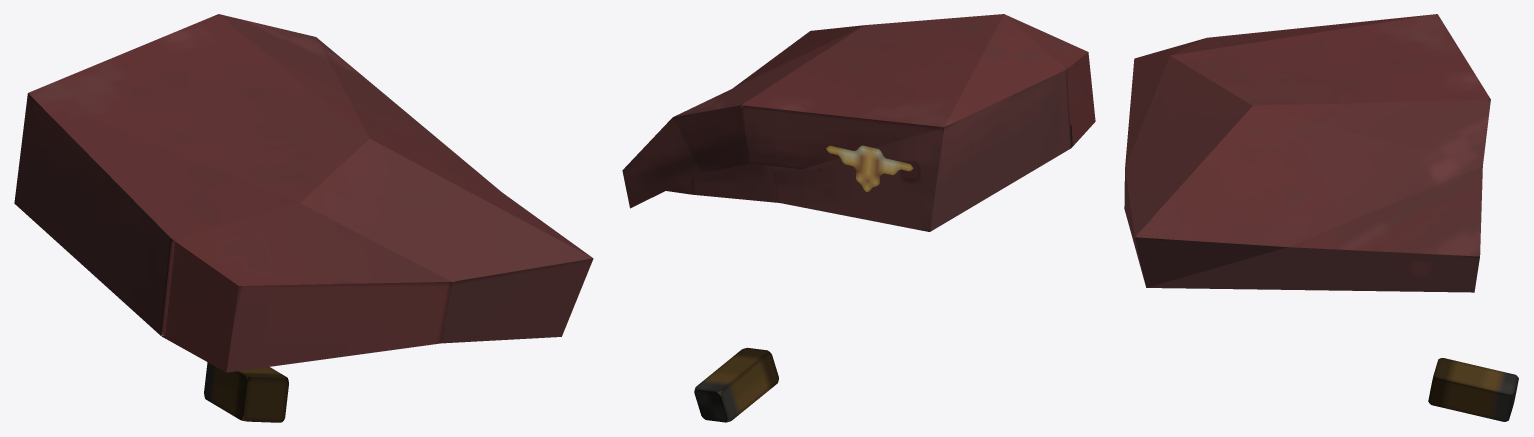
Rendered from berserk_h.obj.
3 views of the same model, side by side, from view 1: azimuth 30°, elevation 25°; view 2: azimuth 150°, elevation 25°; view 3: azimuth 270°, elevation 25° (orthographic). The views are drawn at different scales.
Parts seen in each view (by area): view 1: mesh; view 2: mesh; view 3: mesh.
Boxes of the visible parts, x1,y1,x2,y2 form: mesh: (14, 14, 593, 422); mesh: (622, 14, 1095, 422); mesh: (1124, 14, 1518, 421).
Size of the model in its own units: 0.6672 by 0.6468 by 0.7461.
